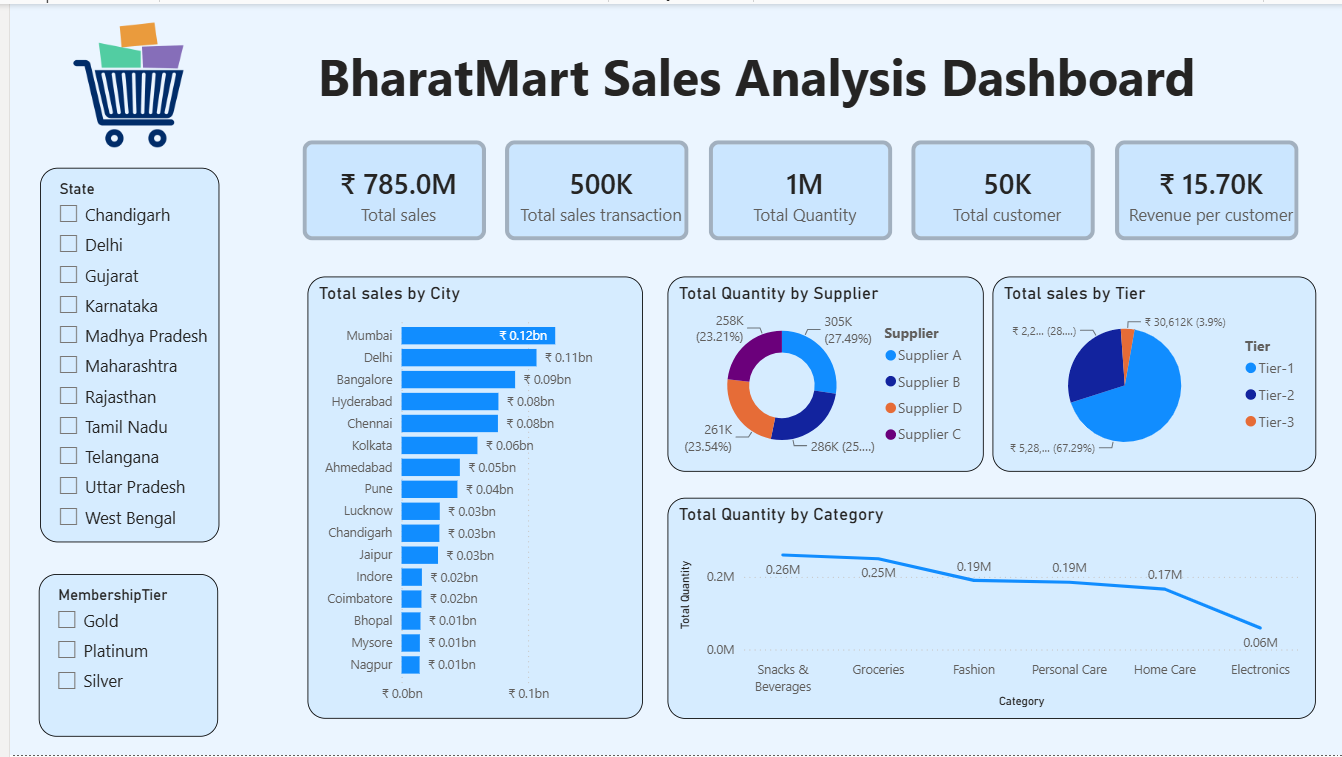

The dashboard page shown, as its layout file describes it:
{"tool":"powerbi","page":{"name":"Page 2","canvas":[1280,720],"ordinal":1},"visuals":[{"type":"image","box":[27.4,15.9,171.7,124.1],"z":11},{"type":"textbox","box":[285.7,31.7,861.3,86.6],"z":12},{"type":"cardVisual","fields":{"Data":["Basic Calculation.Total sales transaction"]},"box":[463.1,118.3,200,120],"z":13},{"type":"cardVisual","fields":{"Data":["Basic Calculation.Total customer"]},"box":[852.7,118.3,200,120],"z":14},{"type":"cardVisual","fields":{"Data":["Basic Calculation.Total Quantity"]},"box":[657.9,118.3,200,120],"z":15},{"type":"cardVisual","fields":{"Data":["Basic Calculation.Total sales"]},"box":[268.4,118.3,200,120],"z":16},{"type":"cardVisual","fields":{"Data":["Basic Calculation.Revenue per customer"]},"box":[1047.4,118.3,200,120],"z":17},{"type":"clusteredBarChart","fields":{"Category":["Customers.City"],"Y":["Basic Calculation.Total sales"]},"box":[285.7,261.1,321.7,424.2],"z":18},{"type":"pieChart","fields":{"Y":["Basic Calculation.Total sales"],"Category":["Stores.Tier"]},"box":[942.1,261.1,310.2,187.6],"z":19},{"type":"lineChart","fields":{"Y":["Basic Calculation.Total Quantity"],"Category":["Products.Category"]},"box":[630.5,473.2,621.8,212.1],"z":20},{"type":"donutChart","fields":{"Y":["Basic Calculation.Total Quantity"],"Category":["Products.Supplier"]},"box":[630.5,261.1,303,187.6],"z":21},{"type":"slicer","fields":{"Values":["Customers.State"]},"box":[28.9,157.3,171.7,359.2],"z":22},{"type":"slicer","fields":{"Values":["Customers.MembershipTier"]},"box":[27.4,546.8,171.7,155.8],"z":23}]}

Visuals, with their boxes in screenshot pixels (x1, y1, x2, y2), scaled from the page's 1280x720 canvas onto the 1342x757 screenshot:
image: region(29, 17, 209, 147)
textbox: region(300, 33, 1203, 124)
cardVisual - Basic Calculation.Total sales transaction: region(486, 124, 695, 251)
cardVisual - Basic Calculation.Total customer: region(894, 124, 1104, 251)
cardVisual - Basic Calculation.Total Quantity: region(690, 124, 899, 251)
cardVisual - Basic Calculation.Total sales: region(281, 124, 491, 251)
cardVisual - Basic Calculation.Revenue per customer: region(1098, 124, 1308, 251)
clusteredBarChart - Customers.City x Basic Calculation.Total sales: region(300, 275, 637, 721)
pieChart - Basic Calculation.Total sales x Stores.Tier: region(988, 275, 1313, 472)
lineChart - Basic Calculation.Total Quantity x Products.Category: region(661, 498, 1313, 721)
donutChart - Basic Calculation.Total Quantity x Products.Supplier: region(661, 275, 979, 472)
slicer - Customers.State: region(30, 165, 210, 543)
slicer - Customers.MembershipTier: region(29, 575, 209, 739)
